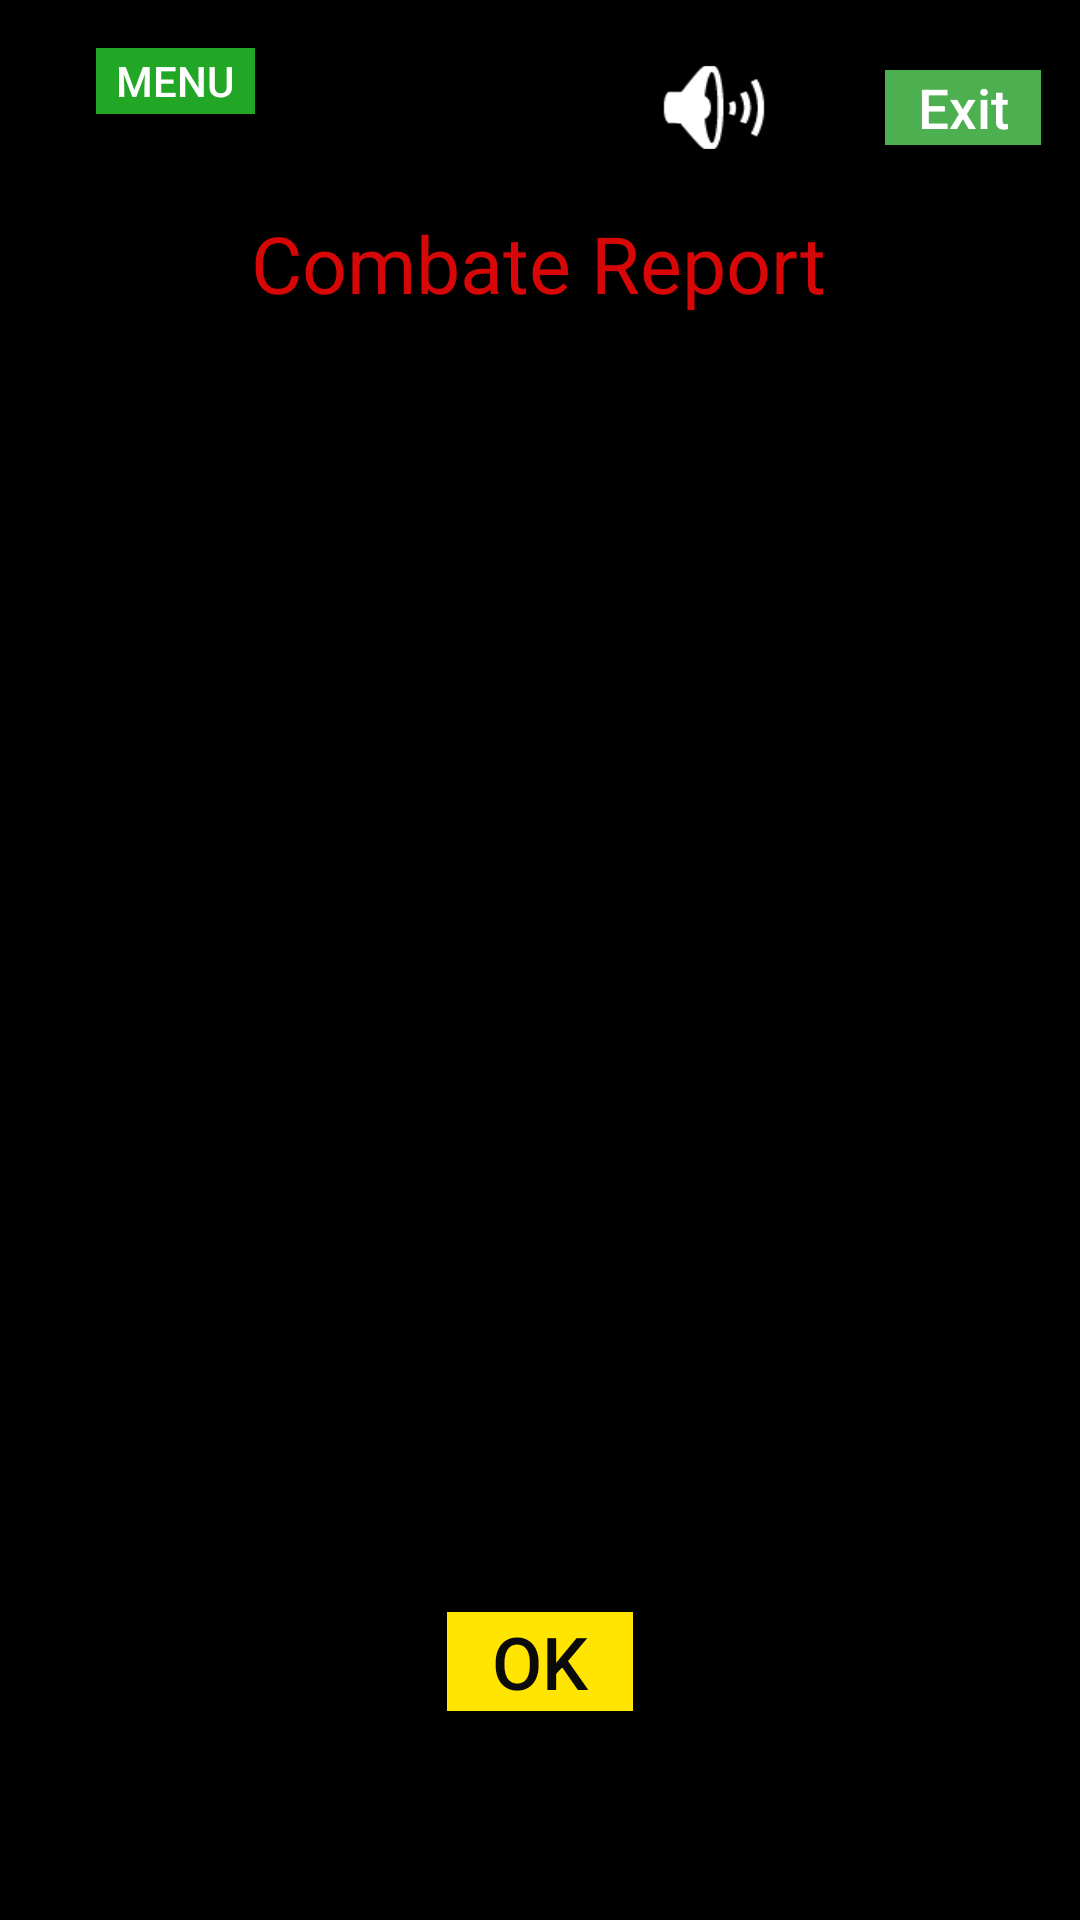

Named icons in this screenshot (1080 x 1920) and their bounding boxes, bbox=(x1, y1, x2, y2):
lock silent mode off: bbox=(663, 66, 765, 149)
